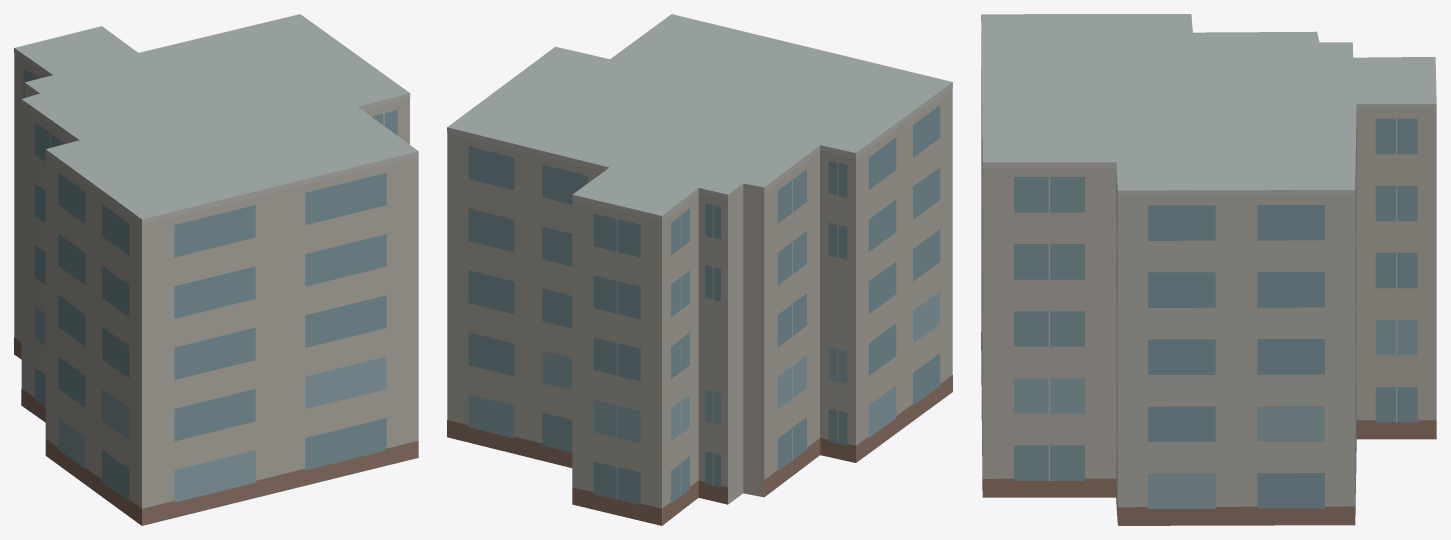
File: survey-upis-32791845.glb
3 views of the same model, side by side, from view 1: azimuth 30°, elevation 25°; view 2: azimuth 150°, elevation 25°; view 3: azimuth 270°, elevation 25° (orthographic). The views are drawn at different scales.
Visible parts, largest first — view 1: survey-upis-32791845.tmp; view 2: survey-upis-32791845.tmp; view 3: survey-upis-32791845.tmp.
Part boxes in pixels (box(x1,y1,x2,y2)): survey-upis-32791845.tmp: box(14, 14, 418, 525); survey-upis-32791845.tmp: box(447, 14, 952, 525); survey-upis-32791845.tmp: box(981, 14, 1436, 525).
Bounding box in the file's own units: 15.6 × 13.8 × 17.
